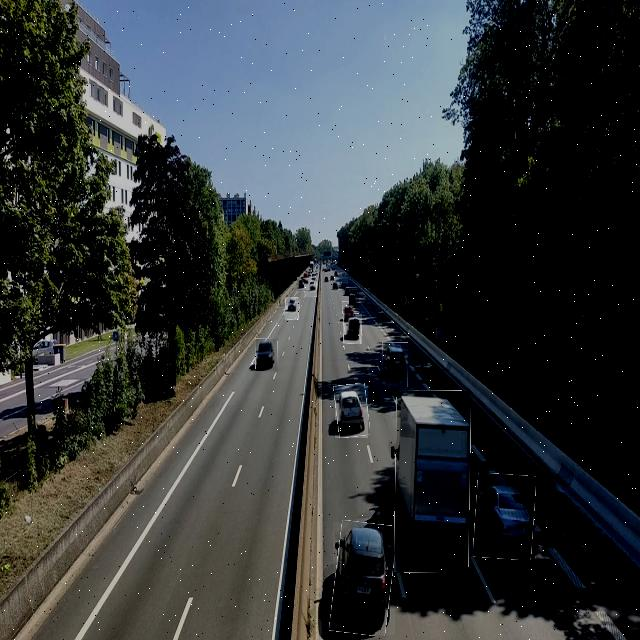Car: (333, 522, 395, 635), (475, 474, 535, 560), (335, 384, 368, 438), (382, 342, 408, 387), (256, 338, 278, 371), (343, 313, 362, 344), (285, 297, 299, 320), (343, 301, 354, 326), (304, 278, 317, 297), (350, 290, 360, 308), (298, 277, 308, 291)
Truck: (396, 391, 470, 573)
